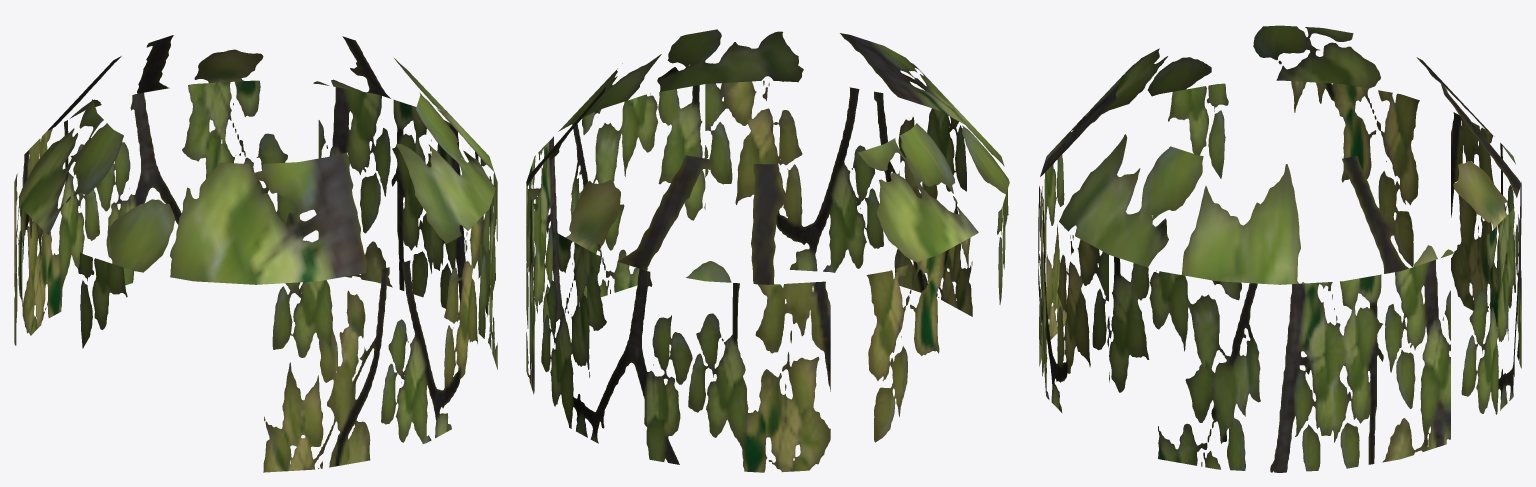
Rendered from tow.FBX.
3 renders of one model, left to right at view 1: azimuth 30°, elevation 25°; view 2: azimuth 150°, elevation 25°; view 3: azimuth 270°, elevation 25°, orthographic.
Parts seen in each view (by area): view 1: tow; view 2: tow; view 3: tow.
Boxes of the visible parts, box(x1,y1,x2,y2) form: tow: box(14, 35, 497, 472); tow: box(526, 29, 1009, 472); tow: box(1038, 25, 1521, 472).
Bounding box in the file's own units: 1.19 × 1.19 × 0.9144.
